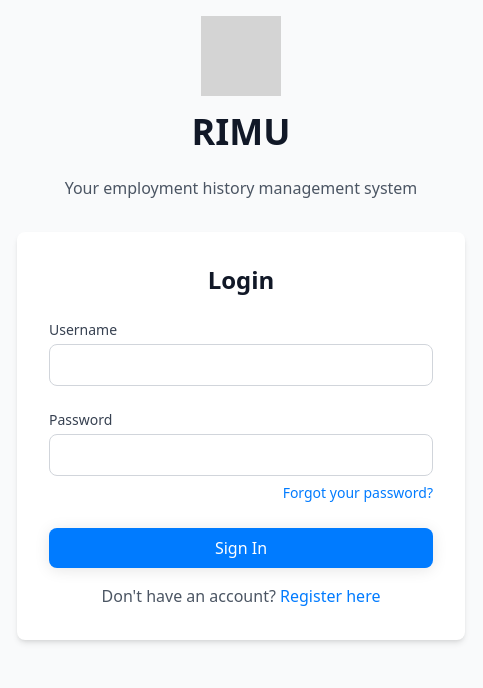
Login Page › shows error message on failed login
// Ingresar credenciales inválidas
Type "invalid-user" into the field labelled "Username".
click(241, 365); type("invalid-user")  # box [49, 344, 433, 386]
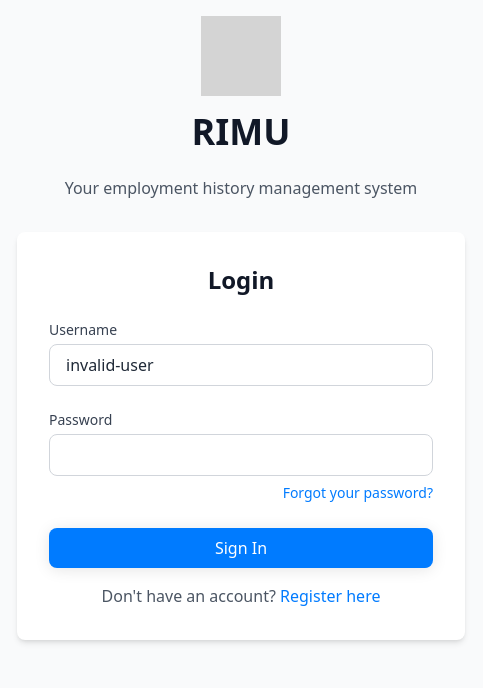
Type "wrong-password" into the password field labelled "Password".
click(241, 455); type("wrong-password")  # box [49, 434, 433, 476]
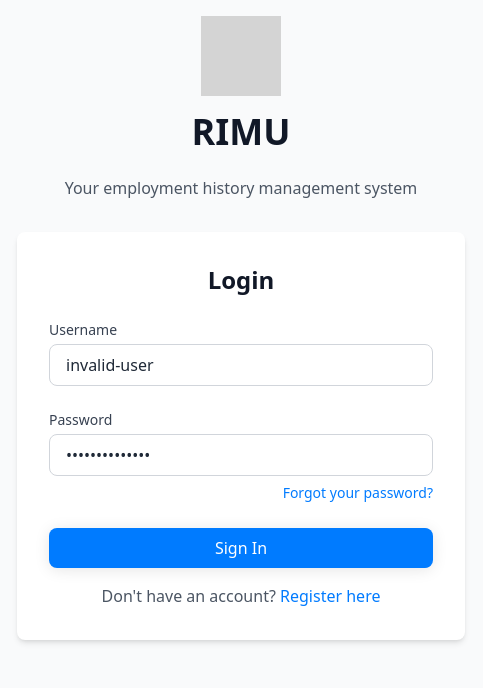
Click the button "Sign In".
click(241, 548)  # box [49, 528, 433, 568]
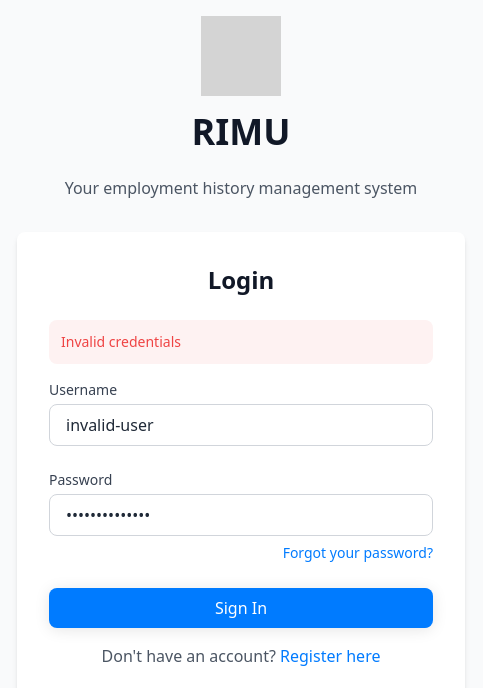
Expected: the text "Invalid credentials" is shown, [49, 320, 433, 364]
